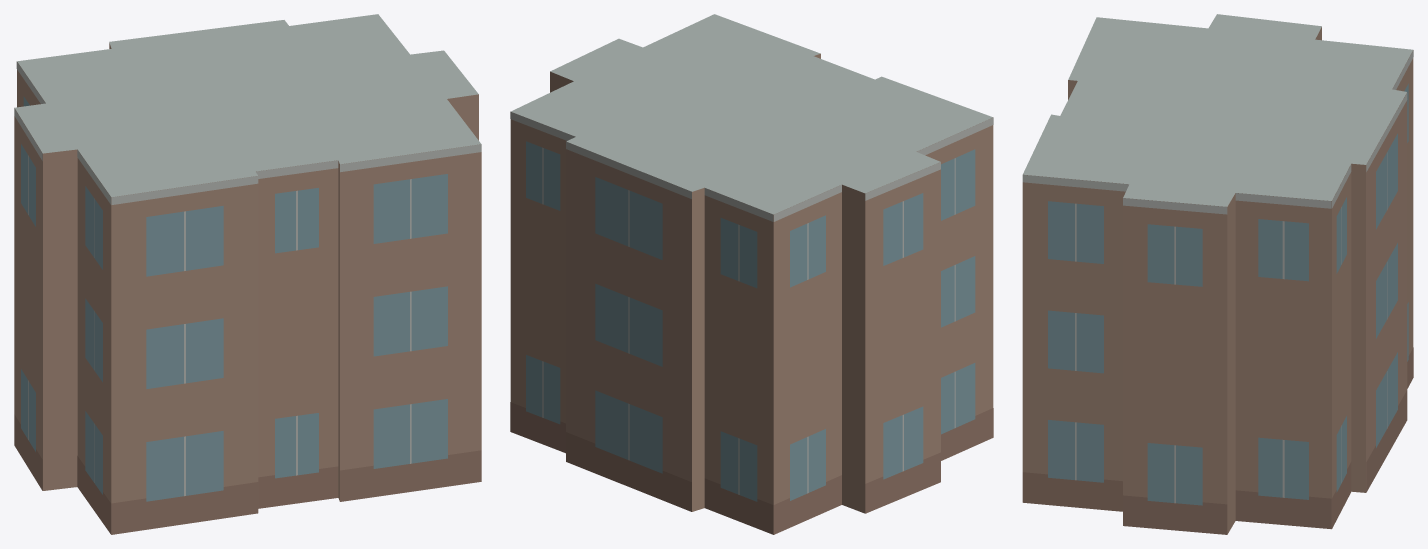
Rendered from survey-upis-32891212.glb.
The picture shows the model from 3 angles, left to right: view 1: azimuth 30°, elevation 25°; view 2: azimuth 150°, elevation 25°; view 3: azimuth 270°, elevation 25°; orthographic projection. The views are drawn at different scales.
Parts seen in each view (by area): view 1: survey-upis-32891212.tmp; view 2: survey-upis-32891212.tmp; view 3: survey-upis-32891212.tmp.
Boxes of the visible parts, x1,y1,x2,y2 form: survey-upis-32891212.tmp: [14, 14, 481, 534]; survey-upis-32891212.tmp: [510, 14, 993, 534]; survey-upis-32891212.tmp: [1022, 14, 1413, 534].
Size of the model in its own units: 13.12 by 10.4 by 11.24.
